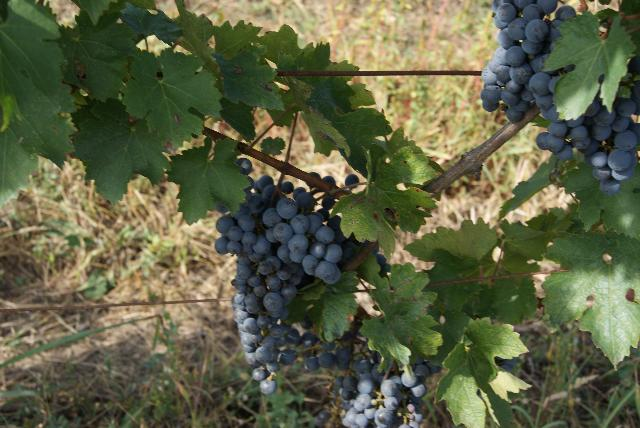grapes: (215, 175, 354, 394), (481, 0, 576, 138), (565, 81, 640, 195)
